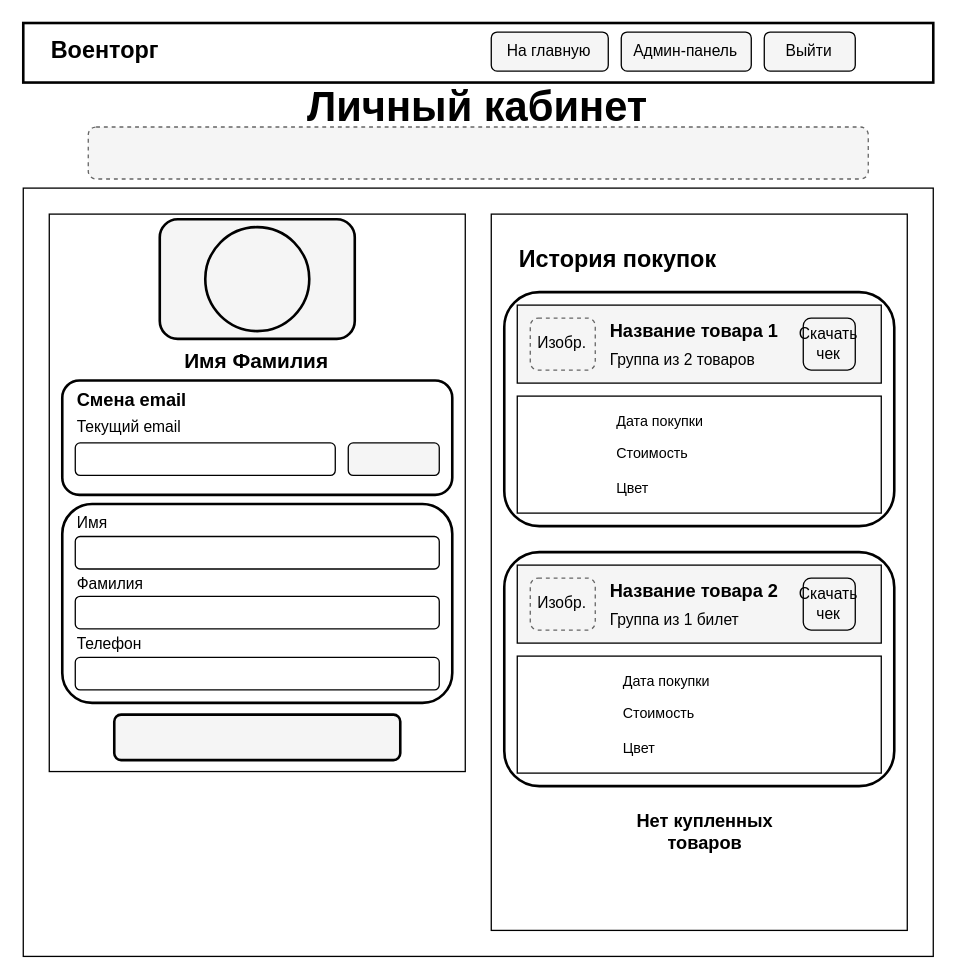
Some shapes in this 957 by 980 pixel diagram are drawn without their labels. The shapes that lost their labels are listed below. From the top down, each one's centre as x and y in pixels, then its label:
At (477,152): "Сообщения системы".
At (256,278): "Аватар".
At (393,458): "Запросить смену".
At (256,737): "Сохранить изменения".
